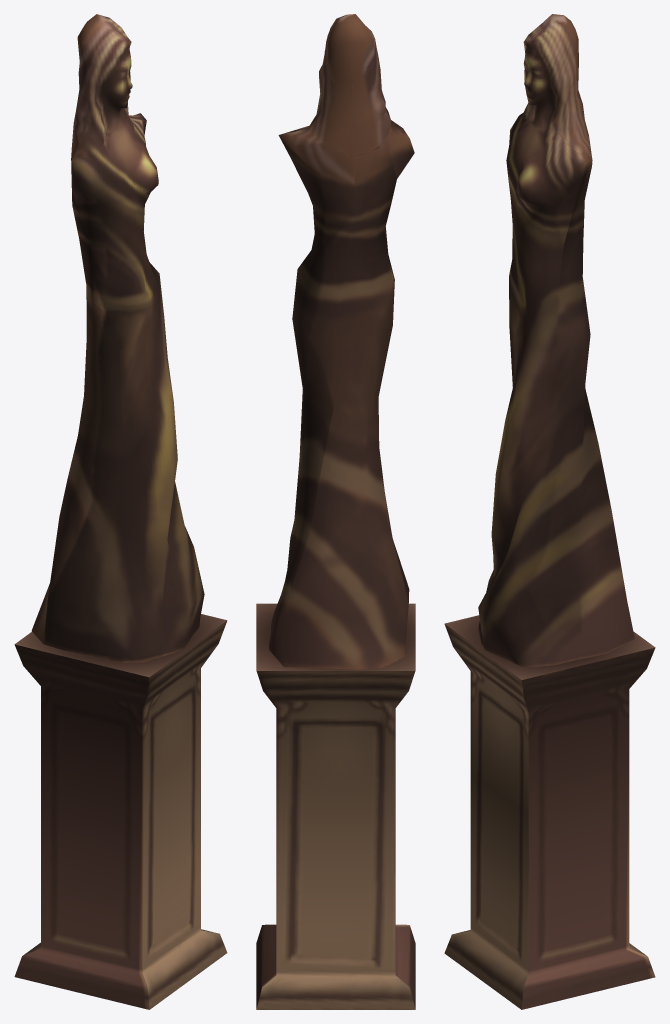
File: JianKongJieDao_01_diaosu_01.FBX
3 renders of one model, left to right at view 1: azimuth 30°, elevation 25°; view 2: azimuth 150°, elevation 25°; view 3: azimuth 270°, elevation 25°, orthographic. The views are drawn at different scales.
Parts seen in each view (by area): view 1: JianKongJieDao_01__diaosu_01; view 2: JianKongJieDao_01__diaosu_01; view 3: JianKongJieDao_01__diaosu_01.
Part boxes in pixels (x1=…): JianKongJieDao_01__diaosu_01: x1=14, y1=14, x2=227, y2=1009; JianKongJieDao_01__diaosu_01: x1=256, y1=14, x2=415, y2=1009; JianKongJieDao_01__diaosu_01: x1=444, y1=14, x2=655, y2=1009.
Size of the model in its own units: 158 by 779 by 158.
